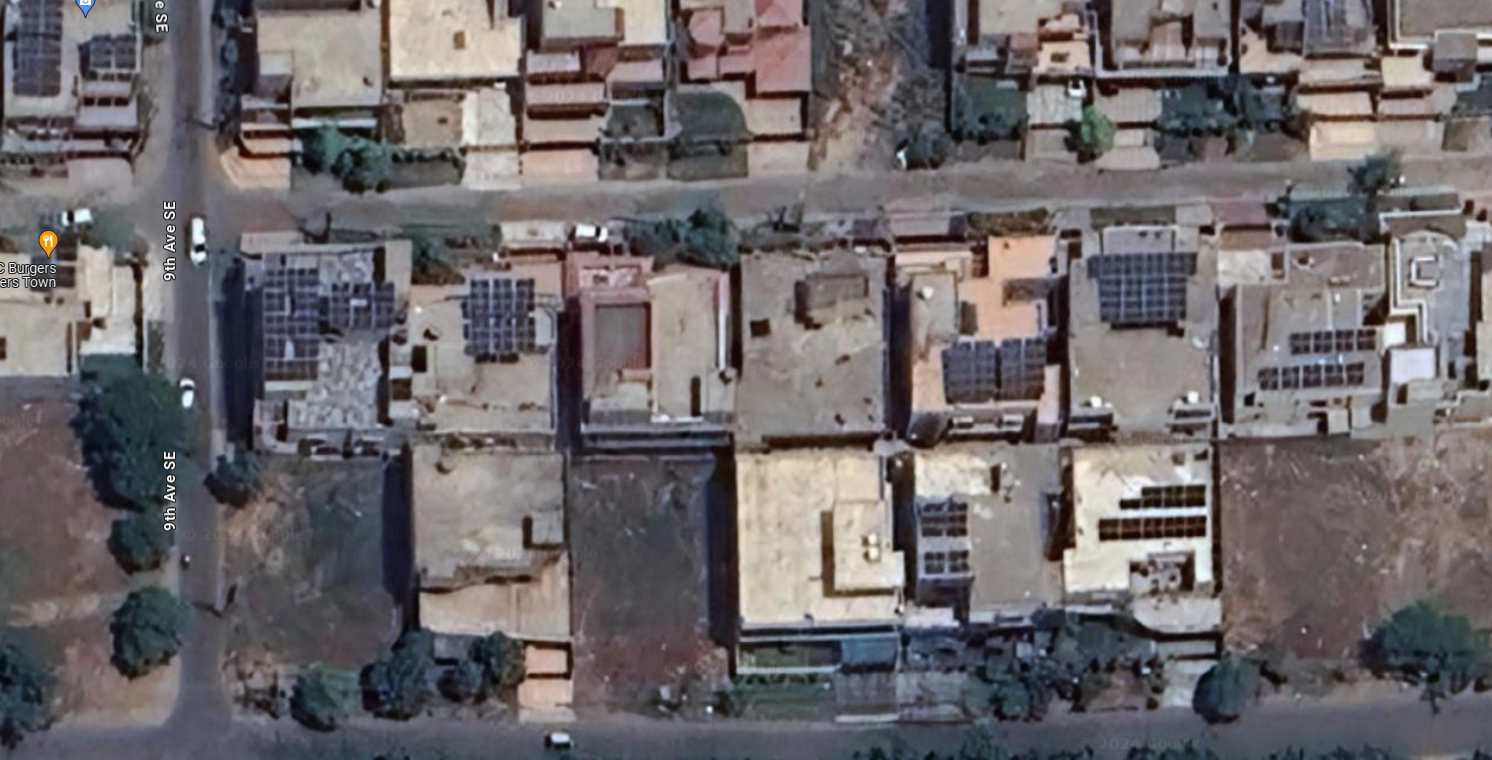solar-panel: (259, 273, 388, 370), (1093, 252, 1197, 336), (945, 336, 1057, 400), (1114, 481, 1214, 551), (1252, 334, 1380, 383), (11, 7, 61, 100), (471, 283, 537, 351), (928, 495, 971, 576), (80, 34, 140, 65)
